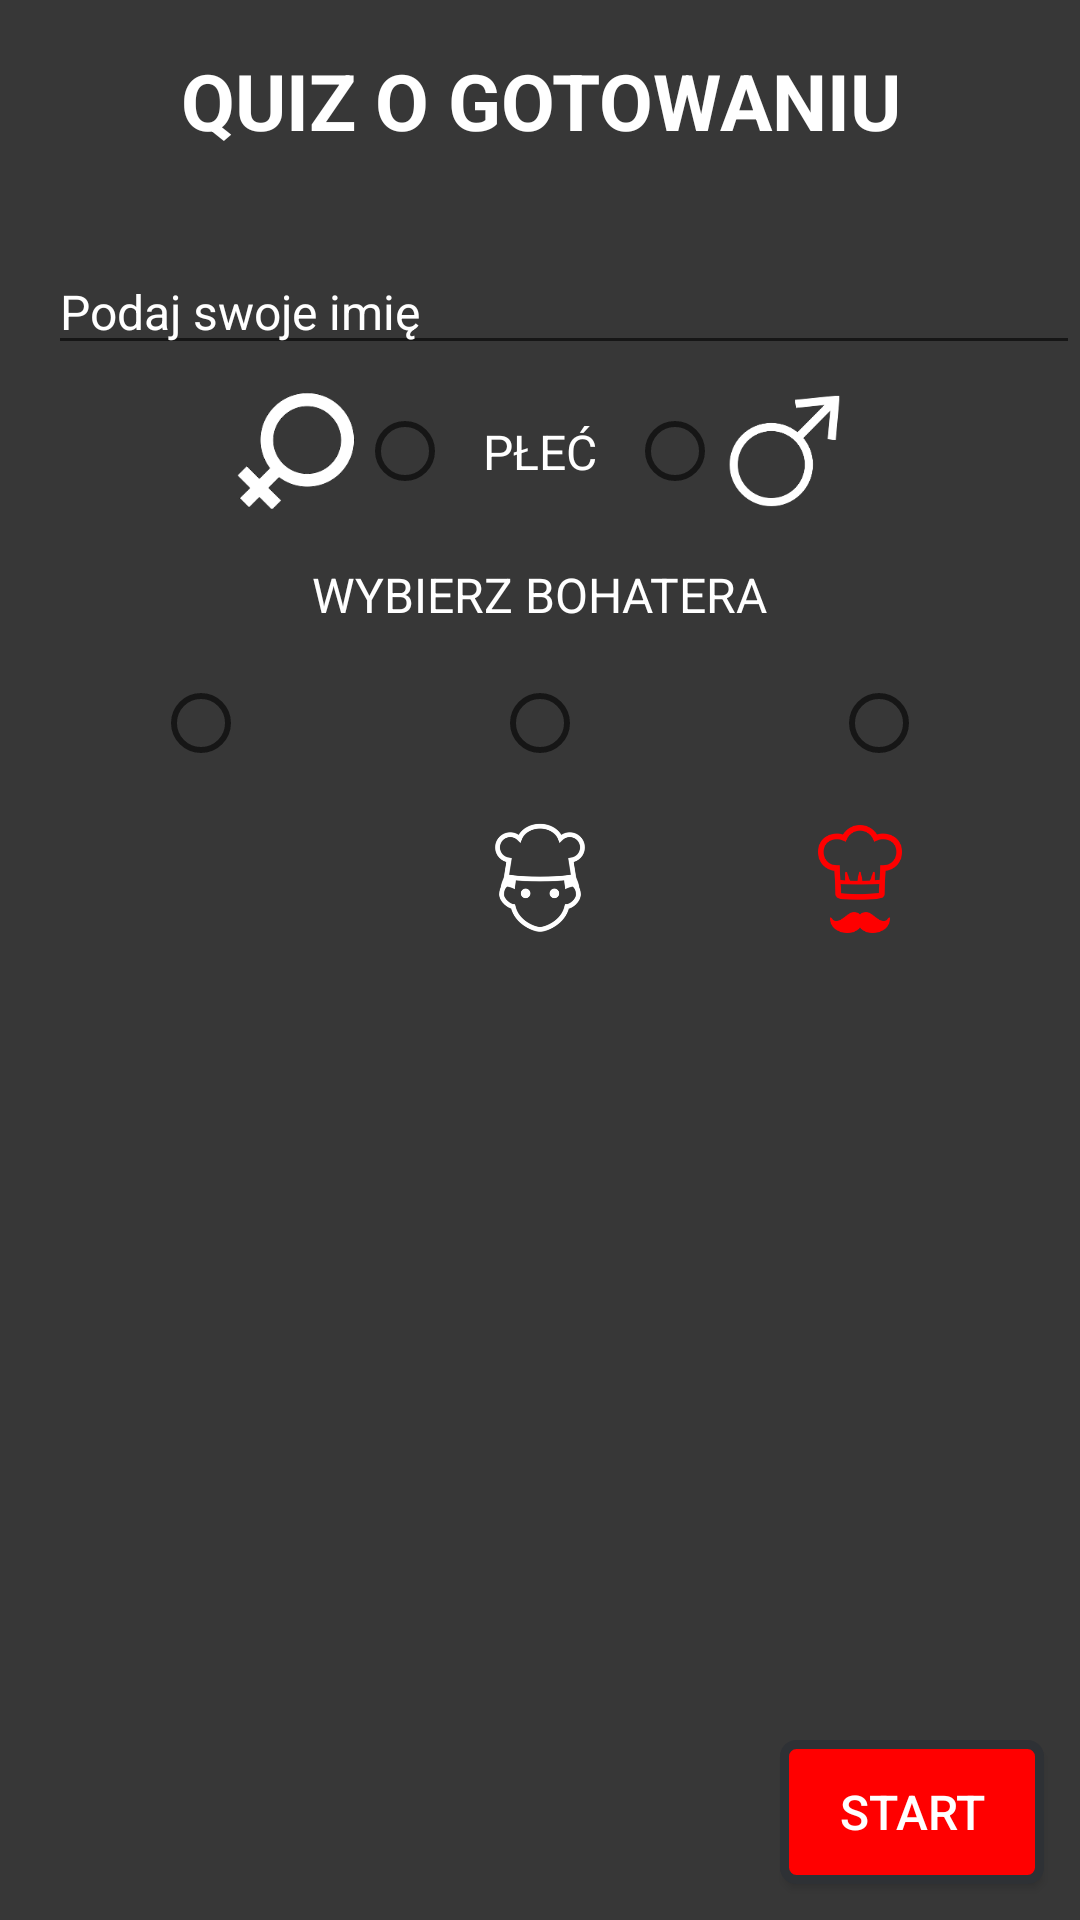

Where icons sit on this 1080px x 1920px app screen, as (x1, y1, x2, y2):
chef: (818, 825, 902, 933)
cook: (495, 824, 585, 932)
man: (729, 396, 840, 506)
woman: (238, 393, 354, 509)
